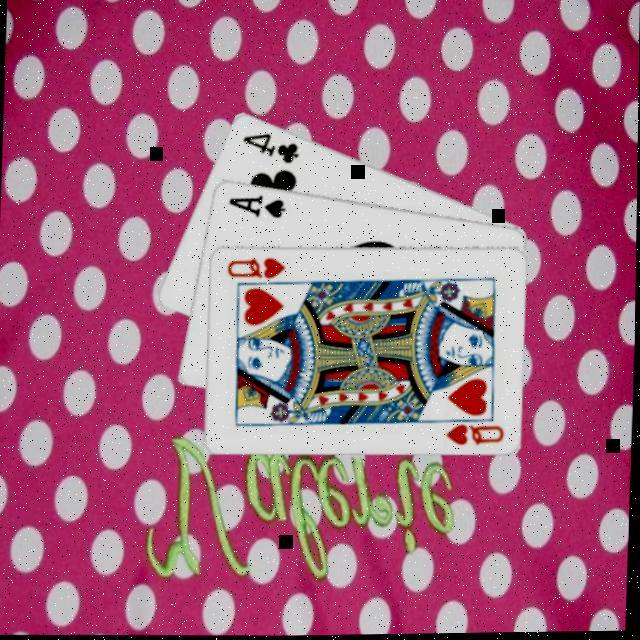4C: (237, 129, 301, 167)
AS: (223, 192, 285, 222)
QH: (433, 415, 506, 450), (222, 254, 286, 284)
